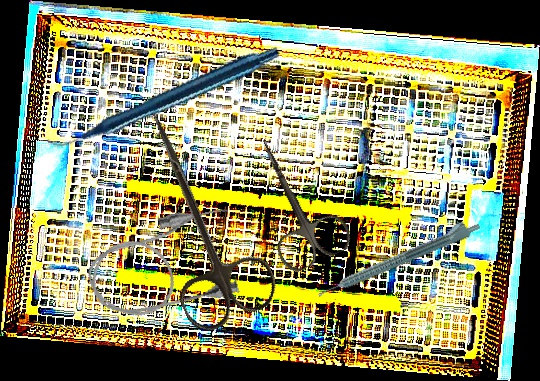Cannula: (78, 199, 250, 330)
Handpiece: (43, 0, 282, 193), (313, 213, 482, 301)
Iris Scissors: (107, 98, 284, 338), (231, 123, 356, 277)
